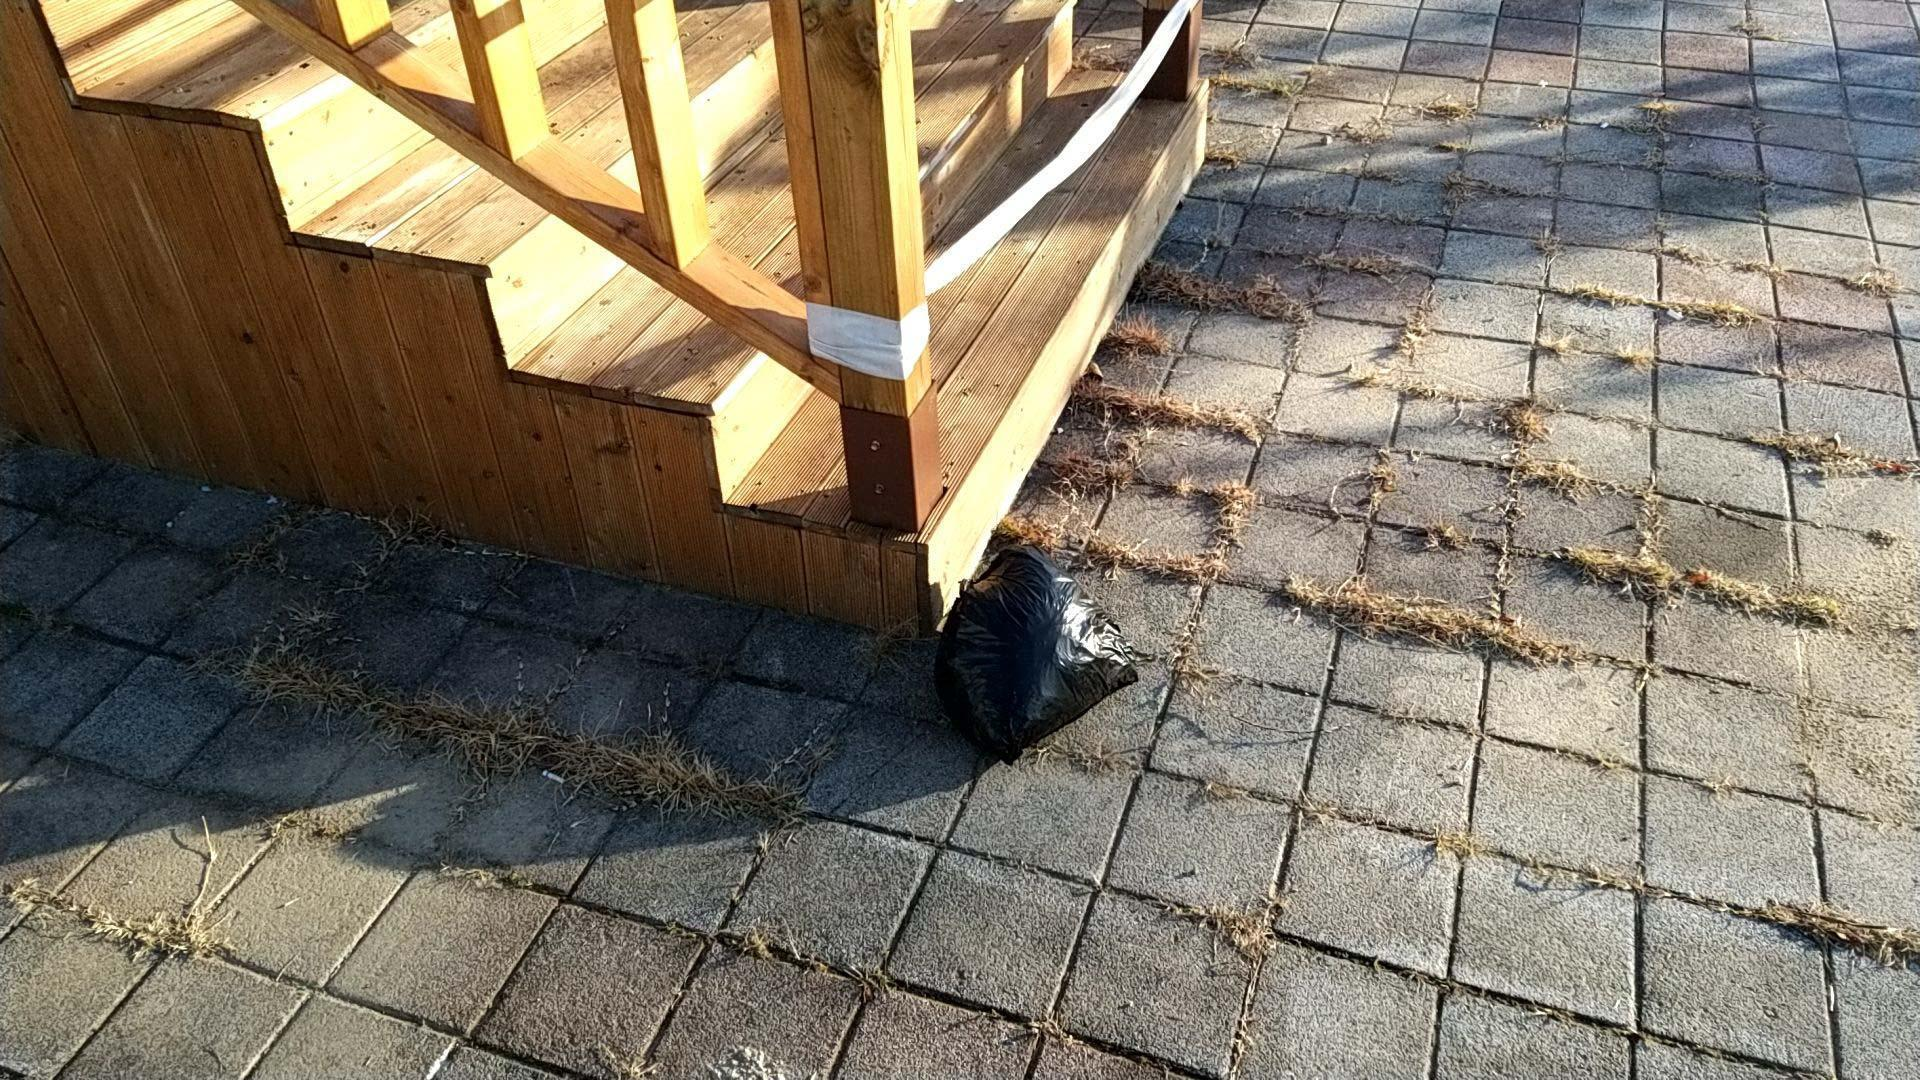black_bag: (905, 541, 1146, 779)
